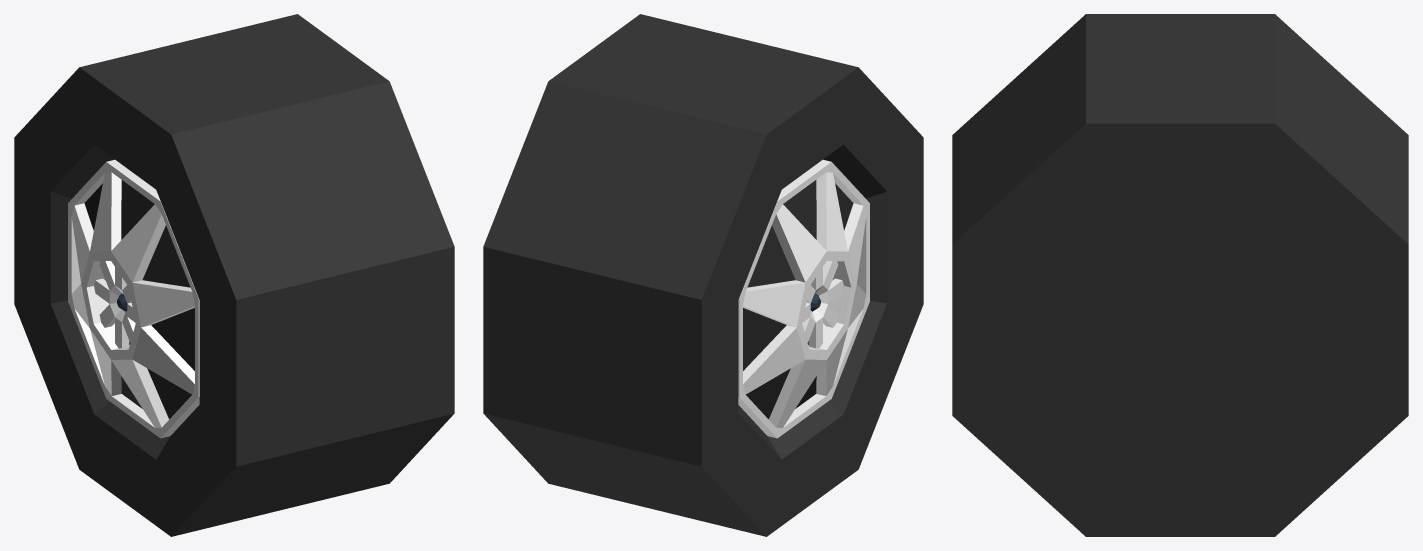
The model's file is Tire_A_01.FBX.
The picture shows the model from 3 angles, left to right: view 1: azimuth 30°, elevation 25°; view 2: azimuth 150°, elevation 25°; view 3: azimuth 270°, elevation 25°; orthographic projection. The views are drawn at different scales.
Visible parts, largest first — view 1: Tire_A_01; view 2: Tire_A_01; view 3: Tire_A_01.
Part boxes in pixels (<box>): Tire_A_01: <box>14,14,454,536</box>; Tire_A_01: <box>483,14,923,536</box>; Tire_A_01: <box>952,14,1408,536</box>.
Size of the model in its own units: 0.687 by 1.14 by 1.14.
